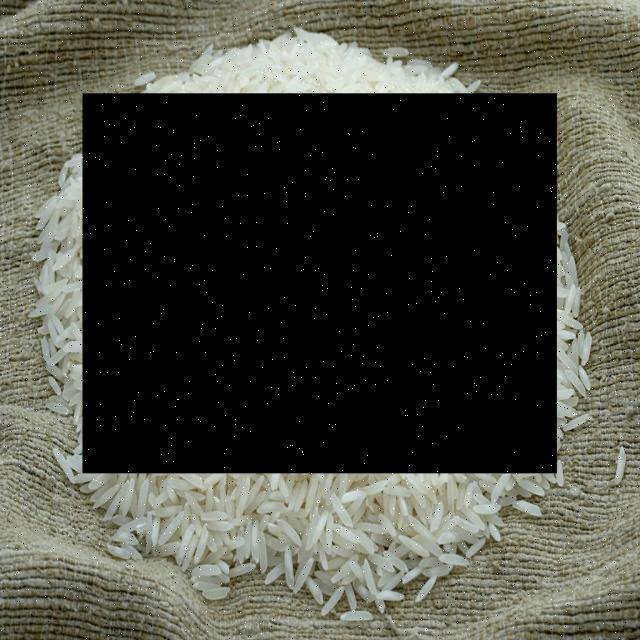Rice: (83, 94, 557, 474)
